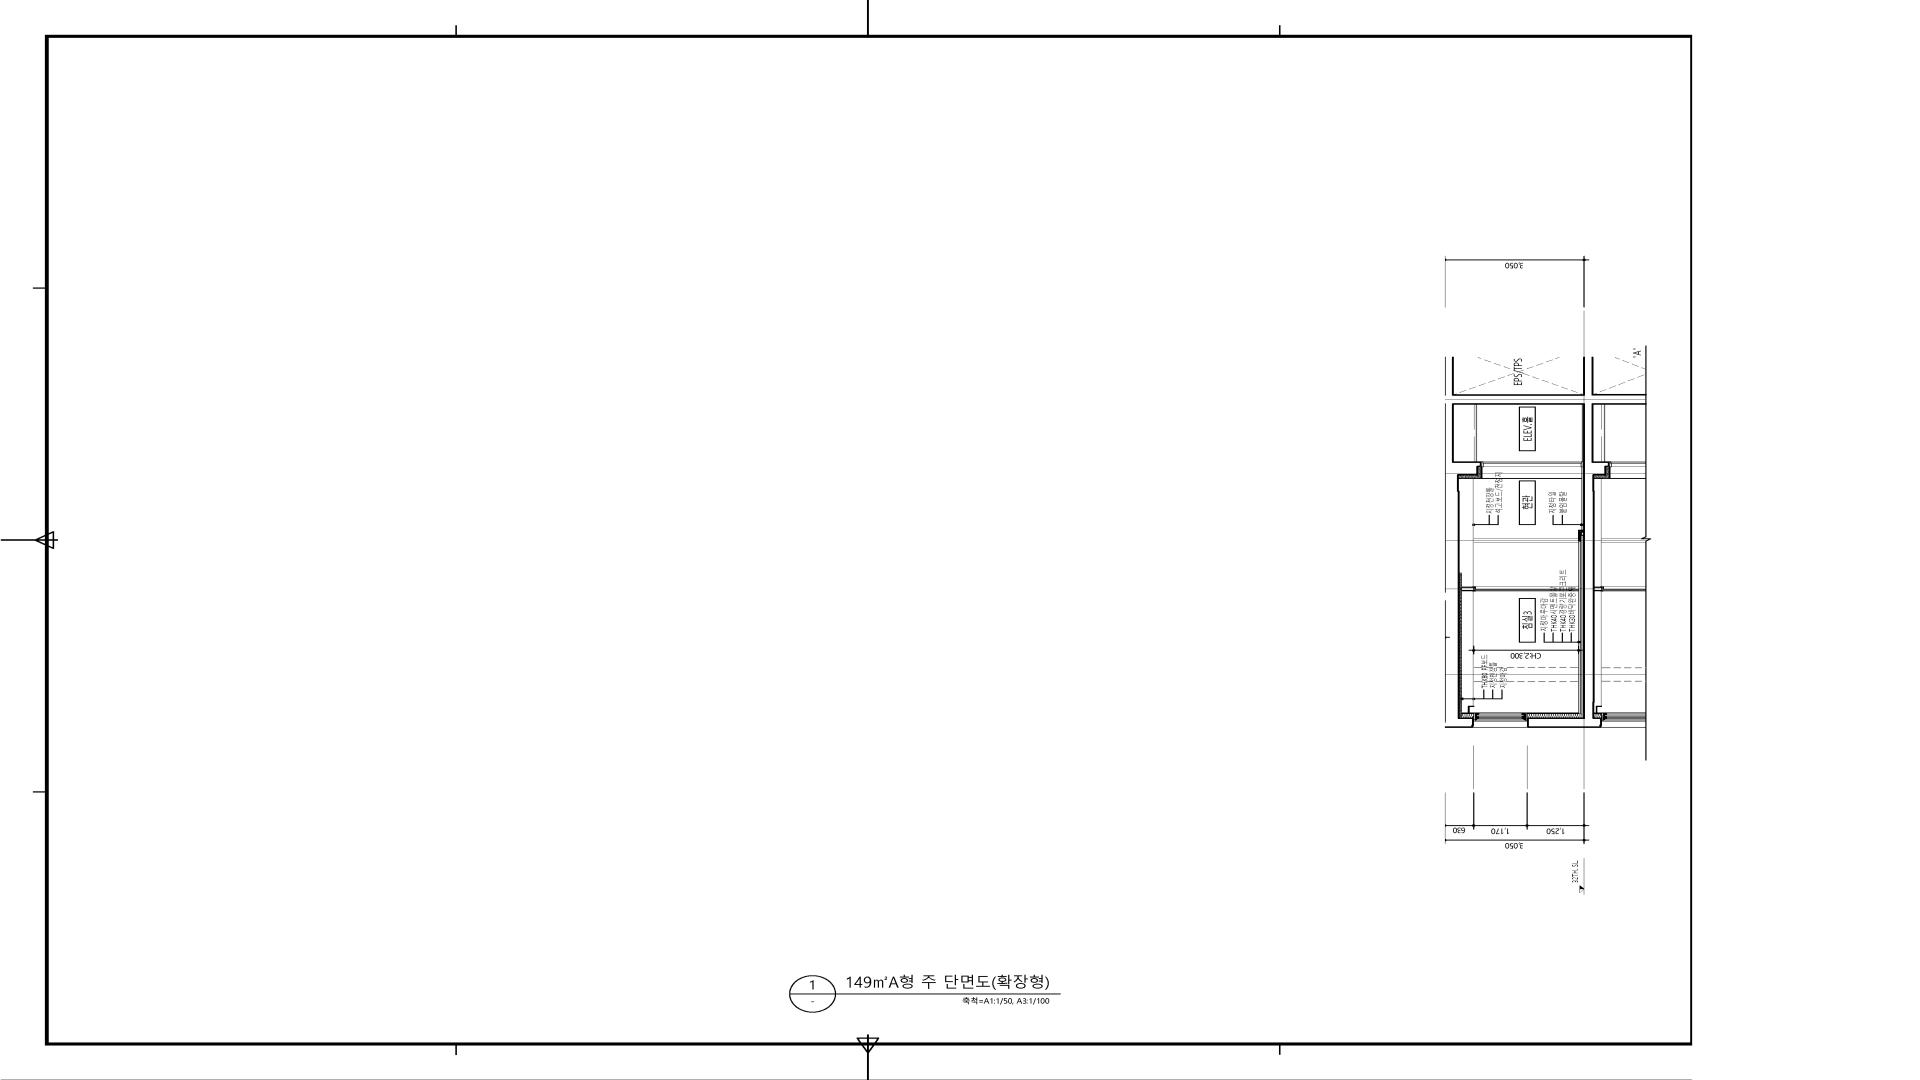door: (1473, 586, 1579, 592), (1482, 461, 1583, 467)
wall: (1527, 461, 1594, 728), (1445, 394, 1594, 462), (1445, 461, 1482, 728), (1474, 539, 1579, 543)
window: (1473, 713, 1527, 728)
